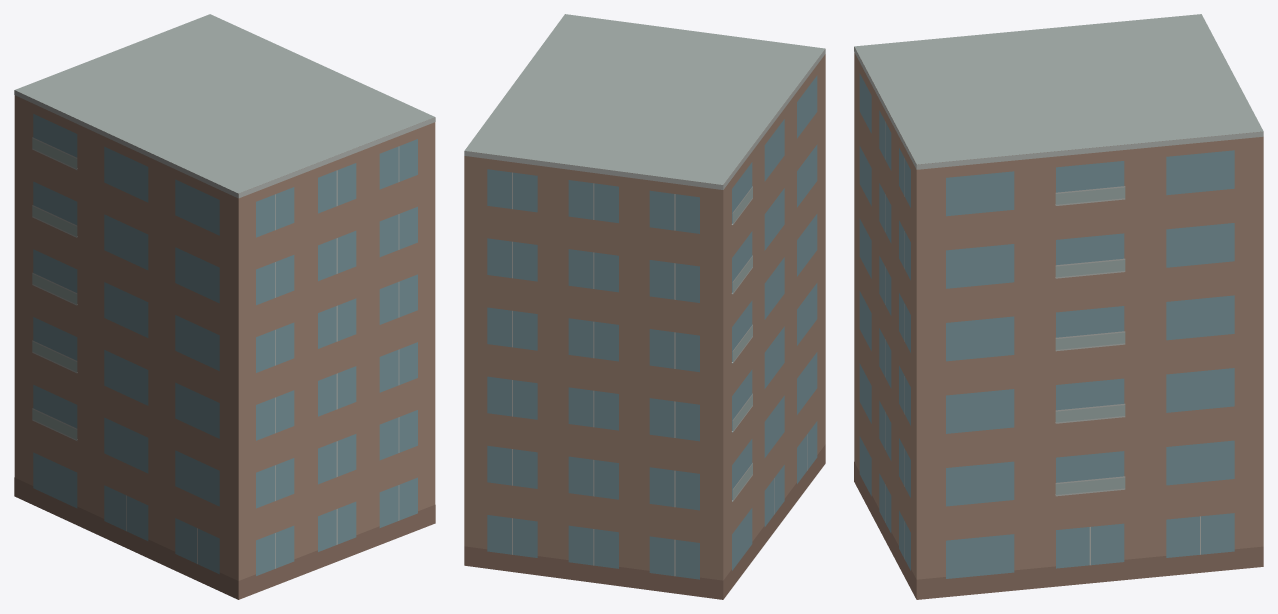
File: survey-upis-32845722.glb
3 renders of one model, left to right at view 1: azimuth 30°, elevation 25°; view 2: azimuth 150°, elevation 25°; view 3: azimuth 270°, elevation 25°, orthographic. The views are drawn at different scales.
Parts seen in each view (by area): view 1: survey-upis-32845722.tmp; view 2: survey-upis-32845722.tmp; view 3: survey-upis-32845722.tmp.
Part boxes in pixels (bbox=[...]): survey-upis-32845722.tmp: bbox=[14, 14, 435, 599]; survey-upis-32845722.tmp: bbox=[464, 14, 825, 599]; survey-upis-32845722.tmp: bbox=[854, 14, 1263, 599].
Bounding box in the file's own units: 14.92 × 20.1 × 17.15.
